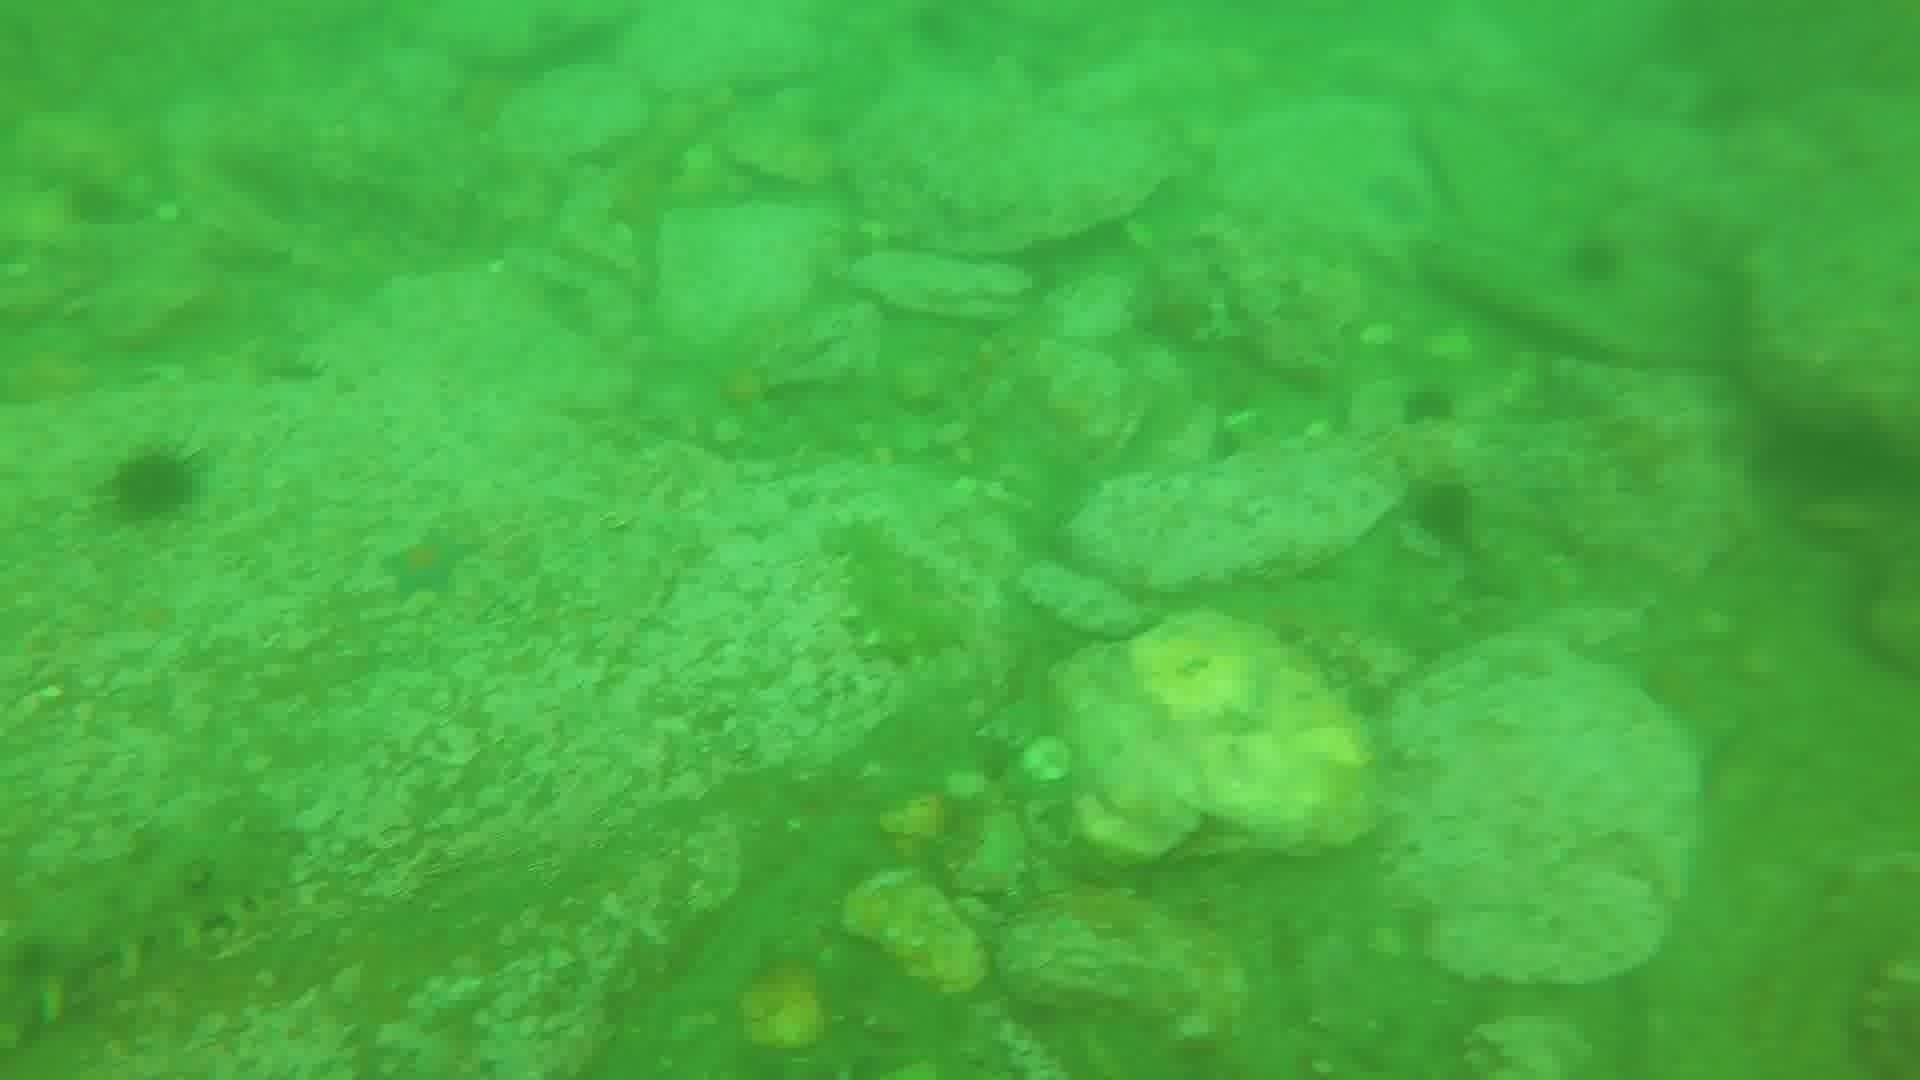echinus: (51, 156, 156, 241), (102, 443, 204, 529), (1403, 471, 1482, 550), (1561, 229, 1629, 291), (1396, 378, 1462, 433)
holothurian: (1, 819, 297, 1039), (822, 510, 971, 671)
starfish: (376, 518, 483, 605)
